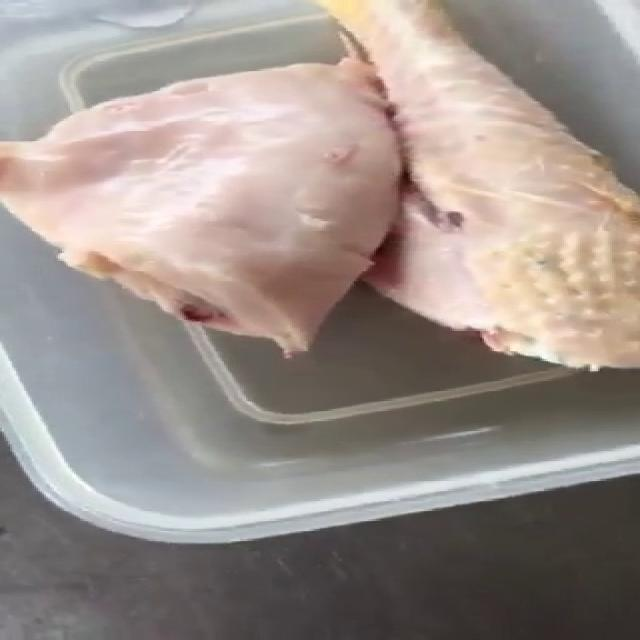chicken: (0, 54, 405, 359)
